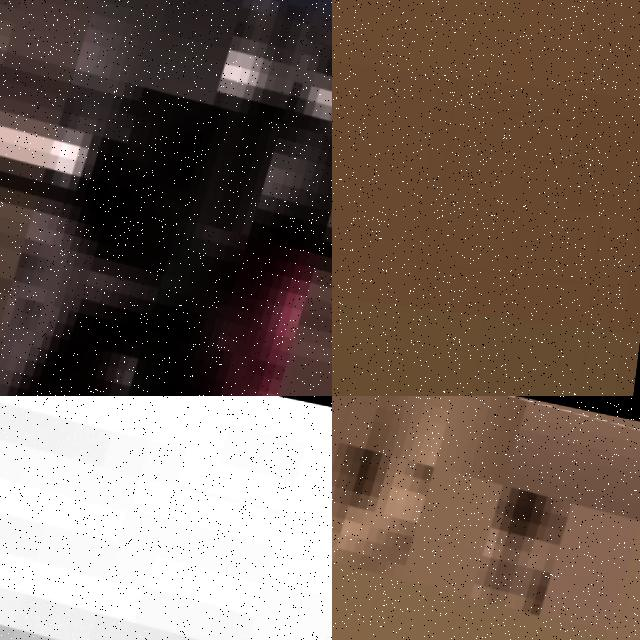drone: (0, 0, 332, 396), (0, 396, 332, 640), (332, 396, 640, 640)
